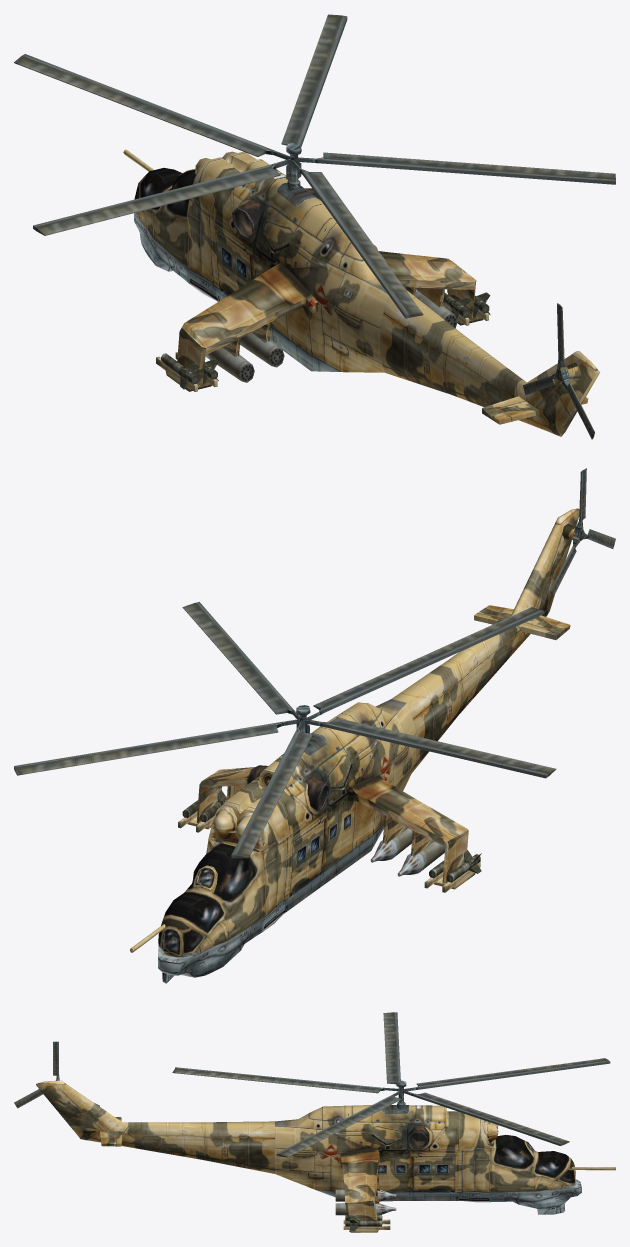
3 views of the same model, one above another, from view 1: azimuth 30°, elevation 25°; view 2: azimuth 150°, elevation 25°; view 3: azimuth 270°, elevation 25° (orthographic). The views are drawn at different scales.
Parts seen in each view (by area): view 1: matrixTransform, node-Mi24Brotor, node-Mi24Trotor; view 2: matrixTransform, node-Mi24Brotor, node-Mi24Trotor; view 3: matrixTransform, node-Mi24Brotor, node-Mi24Trotor.
Boxes of the visible parts, x1,y1,x2,y2 form: matrixTransform: [123, 149, 599, 436]; node-Mi24Brotor: [14, 14, 615, 318]; node-Mi24Trotor: [523, 303, 594, 439]; matrixTransform: [130, 508, 579, 983]; node-Mi24Brotor: [14, 602, 556, 858]; node-Mi24Trotor: [550, 468, 615, 596]; matrixTransform: [36, 1080, 615, 1232]; node-Mi24Brotor: [172, 1012, 610, 1157]; node-Mi24Trotor: [14, 1041, 99, 1108].
Bounding box in the file's own units: 13.77 × 24.35 × 7.1.
Materials: 1 (1 with a texture image).
